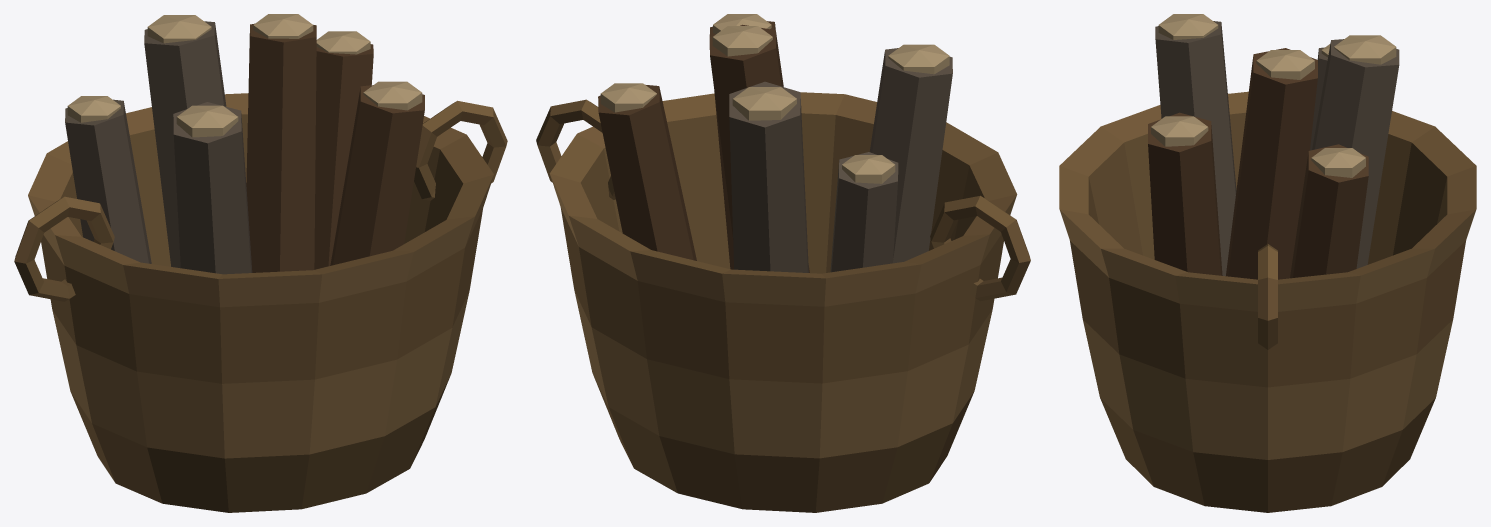
File: prop_firewood_basket.glb
3 renders of one model, left to right at view 1: azimuth 30°, elevation 25°; view 2: azimuth 150°, elevation 25°; view 3: azimuth 270°, elevation 25°, orthographic. The views are drawn at different scales.
Parts seen in each view (by area): view 1: prop_firewood_basket; view 2: prop_firewood_basket; view 3: prop_firewood_basket.
Part boxes in pixels (x1,y1,x2,y2): prop_firewood_basket: (14,14,507,512); prop_firewood_basket: (536,14,1030,512); prop_firewood_basket: (1059,14,1476,512).
Bounding box in the file's own units: 0.628 × 0.504 × 0.4719.
